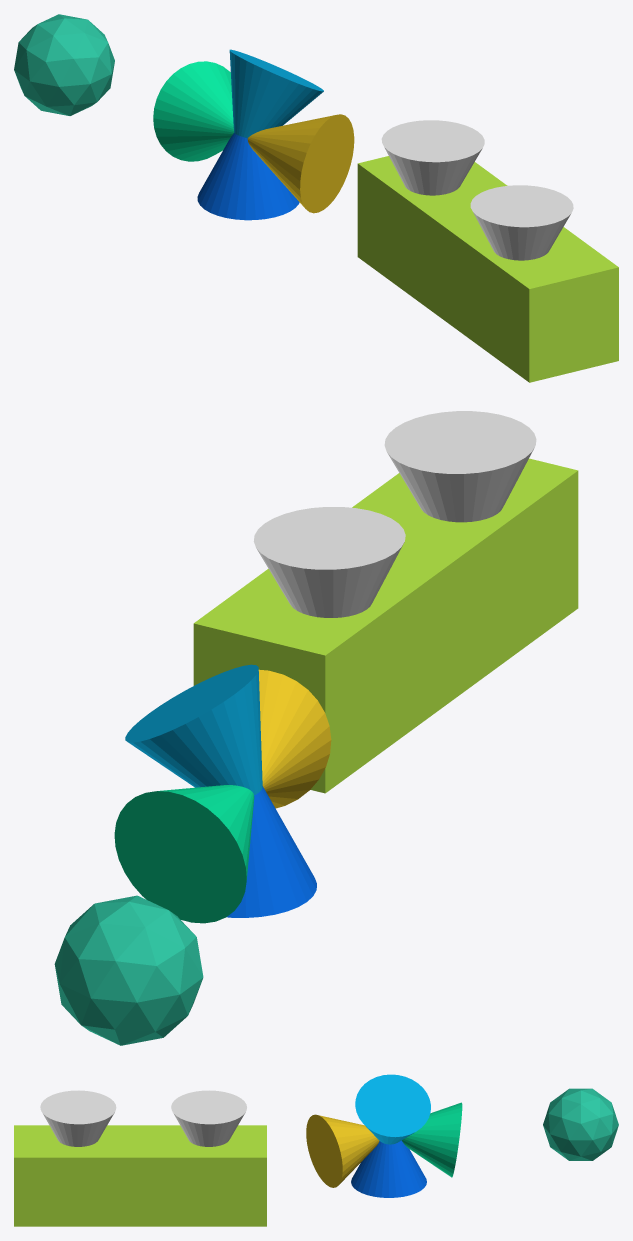
Rendered from suvenier.glb.
3 views of the same model, one above another, from view 1: azimuth 30°, elevation 25°; view 2: azimuth 150°, elevation 25°; view 3: azimuth 270°, elevation 25° (orthographic). The views are drawn at different scales.
Parts seen in each view (by area): view 1: Куб, Икосфера, Конус.003, Конус.002, Конус.005, Конус.004, Конус, Конус.001; view 2: Куб, Икосфера, Конус.002, Конус.005, Конус.004, Конус.001, Конус.003, Конус; view 3: Куб, Икосфера, Конус.001, Конус.003, Конус.005, Конус.004, Конус, Конус.002.
Part boxes in pixels (x1,y1,x2,y2): Куб: (357, 156, 618, 382); Икосфера: (14, 14, 114, 115); Конус.003: (247, 114, 354, 213); Конус.002: (153, 61, 233, 161); Конус.005: (470, 185, 573, 260); Конус.004: (381, 120, 484, 195); Конус: (197, 133, 299, 220); Конус.001: (229, 49, 323, 138); Куб: (193, 458, 578, 793); Икосфера: (54, 895, 203, 1045); Конус.002: (114, 785, 254, 923); Конус.005: (384, 411, 536, 522); Конус.004: (253, 507, 405, 617); Конус.001: (125, 664, 262, 795); Конус.003: (258, 669, 331, 808); Конус: (226, 786, 316, 917); Куб: (14, 1125, 266, 1226); Икосфера: (543, 1088, 618, 1160); Конус.001: (355, 1074, 430, 1144); Конус.003: (306, 1114, 379, 1187); Конус.005: (40, 1090, 116, 1146); Конус.004: (171, 1090, 246, 1146); Конус: (351, 1140, 426, 1197); Конус.002: (402, 1102, 462, 1177).
Size of the model in its own units: 4.74 by 3.13 by 15.9.
